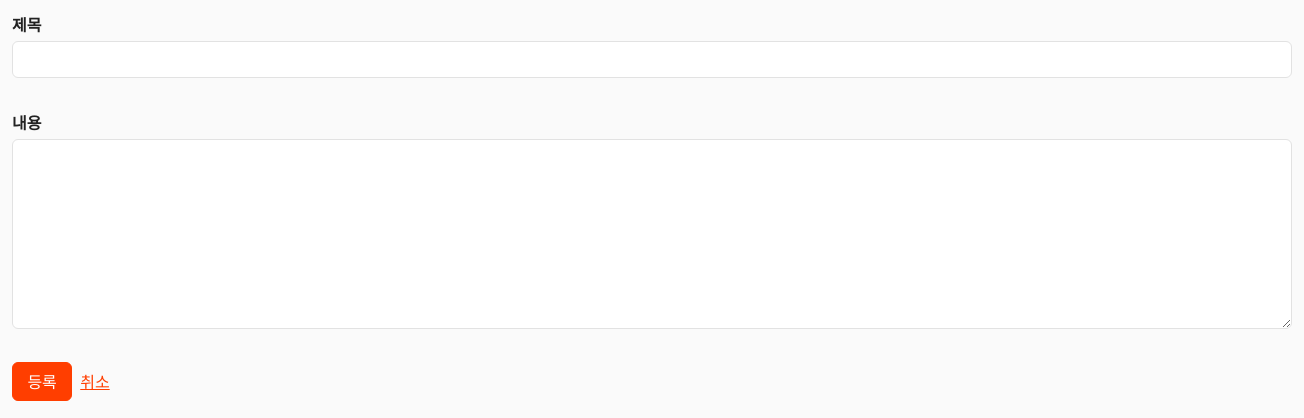
it: PostForm › 제출 중에는 버튼이 잠기고 중복 제출되지 않는다
Type "제목입니다" into the field labelled "제목" at (652, 59), box [12,41,1292,78]
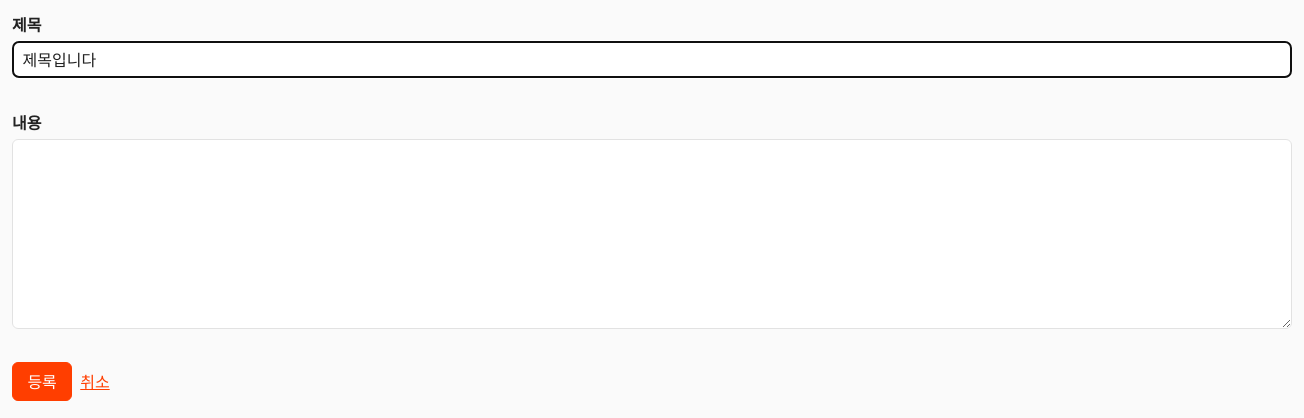
Type "내용이 충분히 깁니다" into the text box labelled "내용" at (652, 234), box [12,139,1292,330]
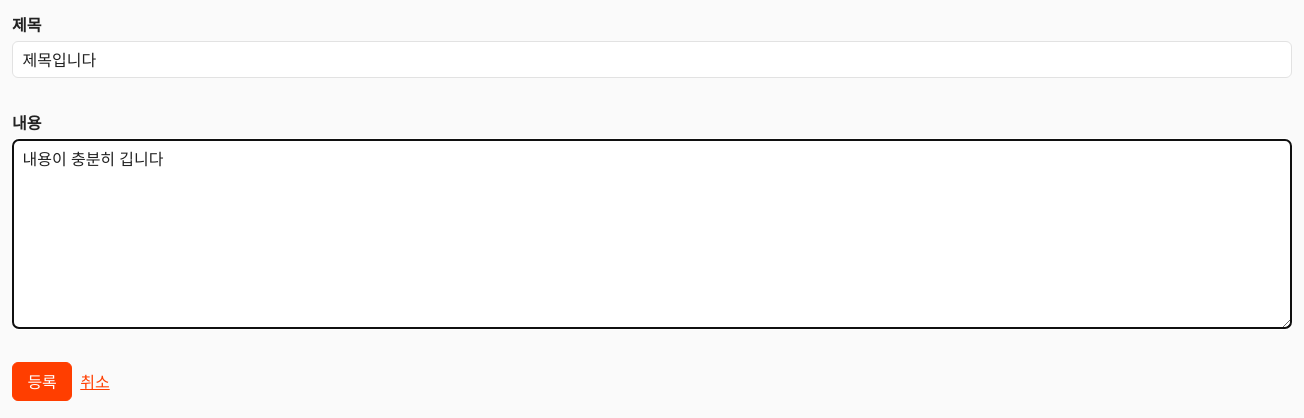
Click the button "등록" at (42, 381), box [12,362,72,400]
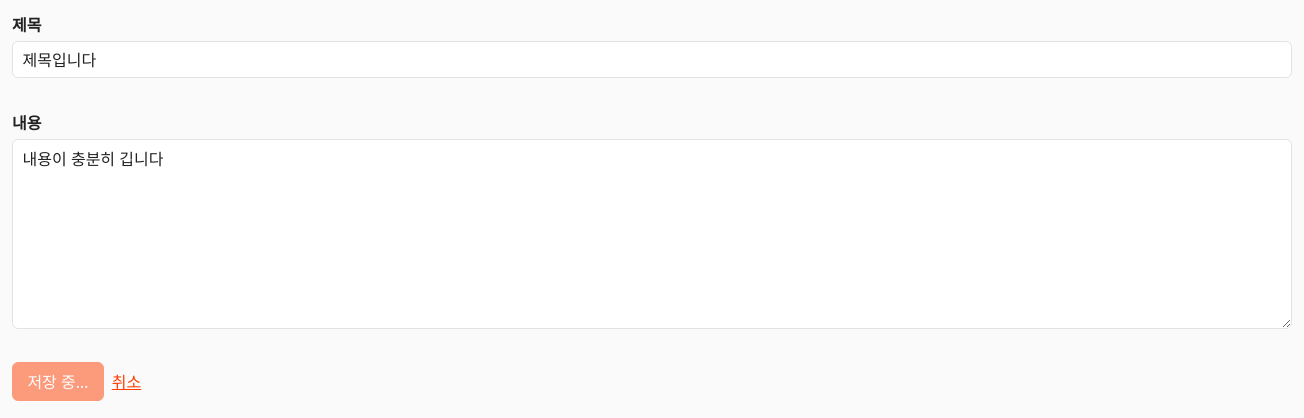
expect the button "저장 중…" is disabled: met
Click the button "저장 중…" at (58, 381), box [12,362,104,400]
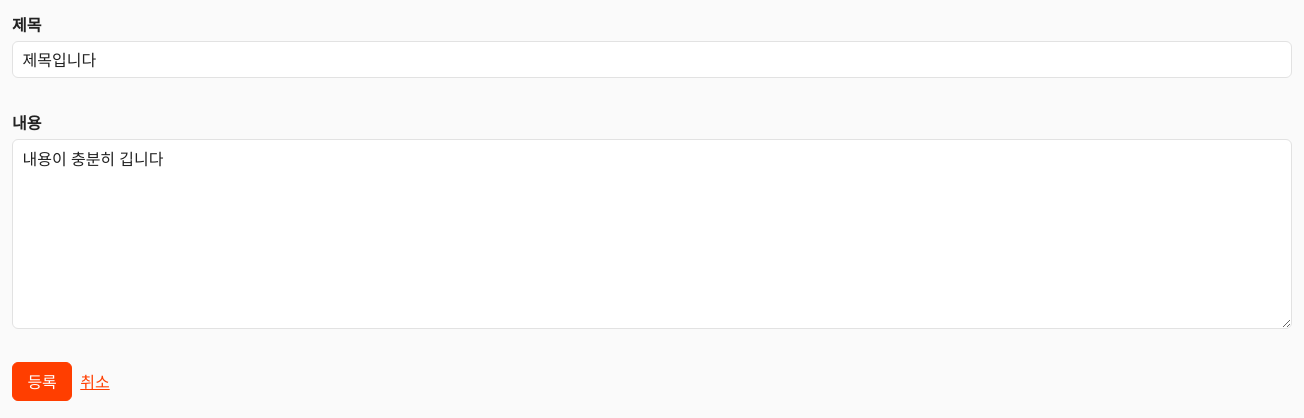
expect the button "등록" is enabled: met, box [12,362,72,400]
